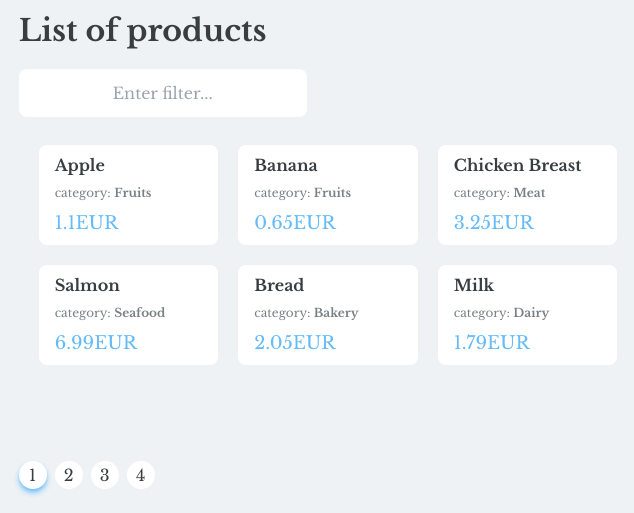
Test: check filter work › should have 3 products with meat category
Type "meat" into the field with test id "filter-element" at (163, 93), box [19,69,307,117]
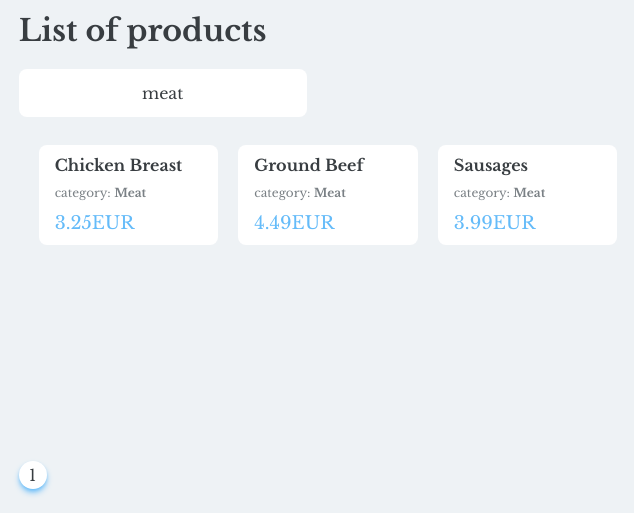
Now the number of elements with test id "list-item-element" is 3, box [39,145,218,245]; [238,145,418,245]; [438,145,617,245]
